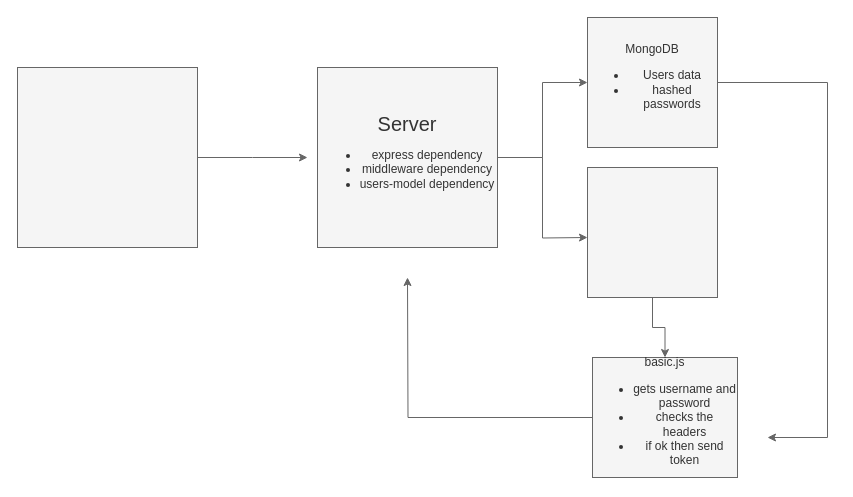
The diagram is 853 pixels wide and 497 high, and some of its shapes have lost their labels. Here are the shapes that lost their labels. From the top down, the centre of each, then its label:
the point at 107,157: index.js mongoose dependency mongo connection server dependency
the point at 652,232: Middleware Basic Auth
